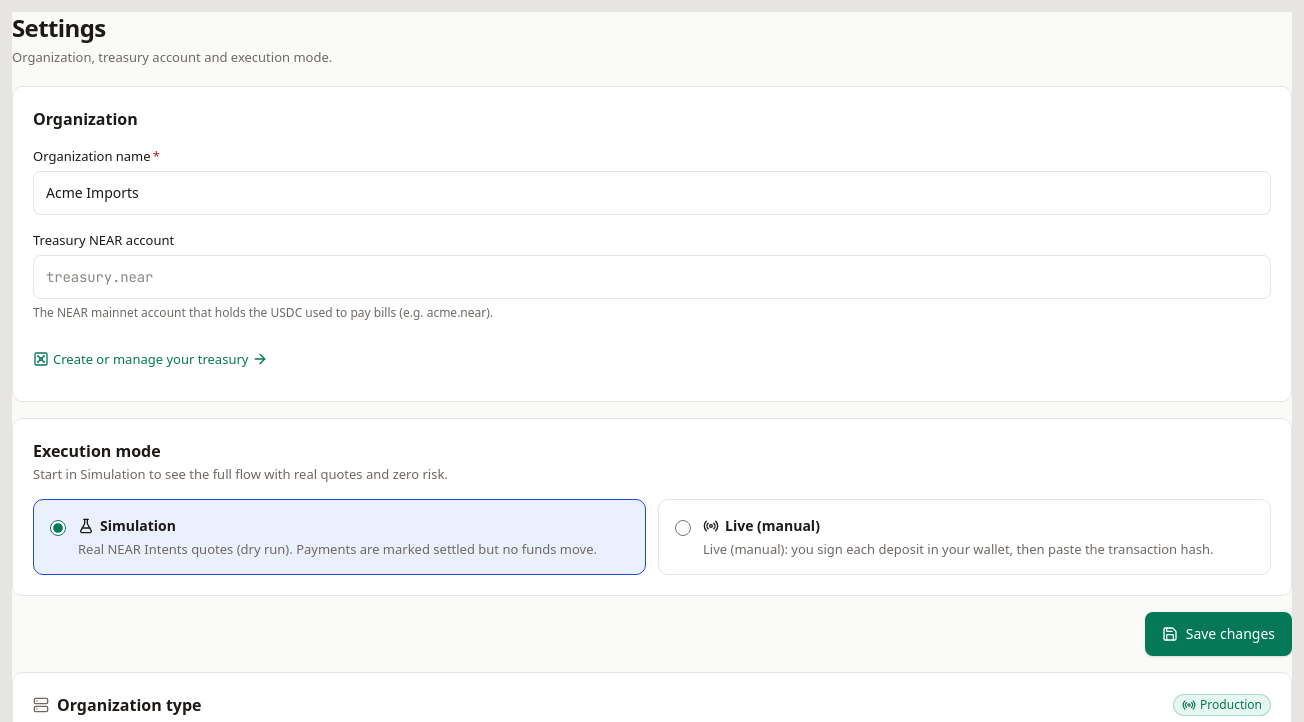
settings: treasury balance › reads the balance as soon as the owner saves, without waiting for the refresh job
The image size is (1304, 722).
In the field labelled "Treasury NEAR account": (652, 277) [33,255,1271,299], type "cruzespejose.near"
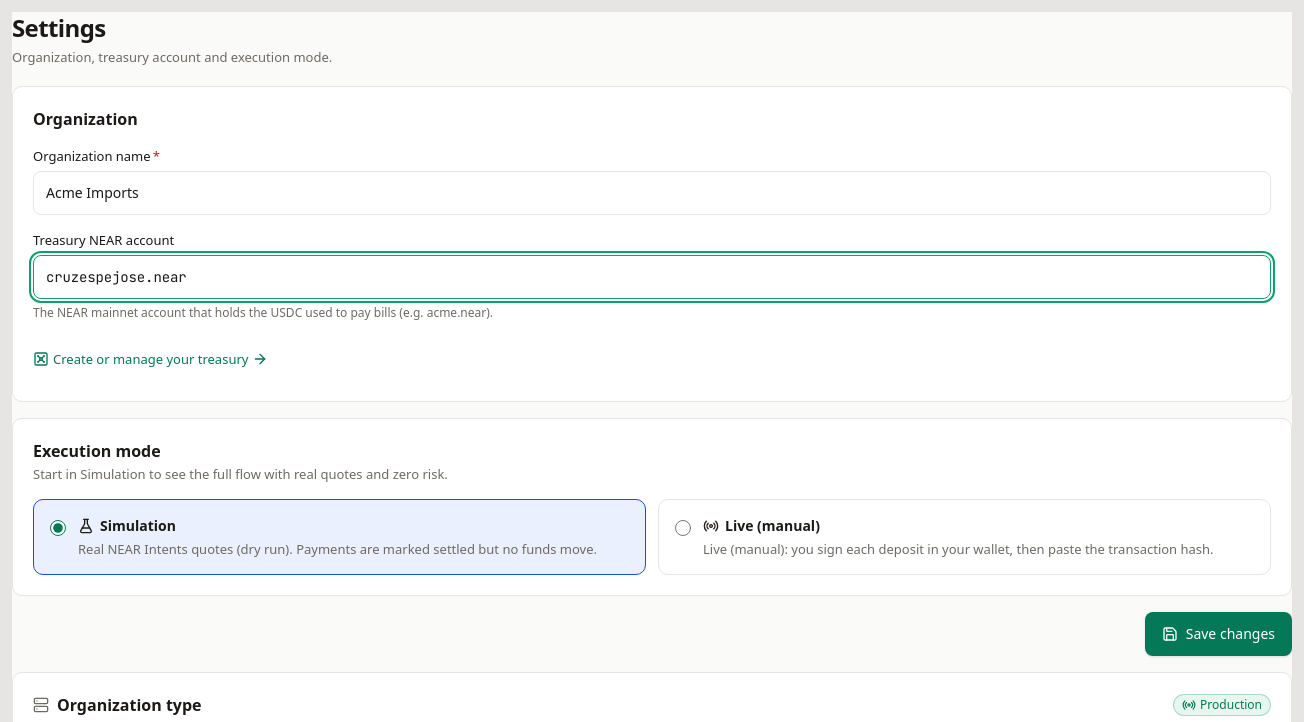
Click the button "Save changes": (1218, 634) [1145,612,1292,656]
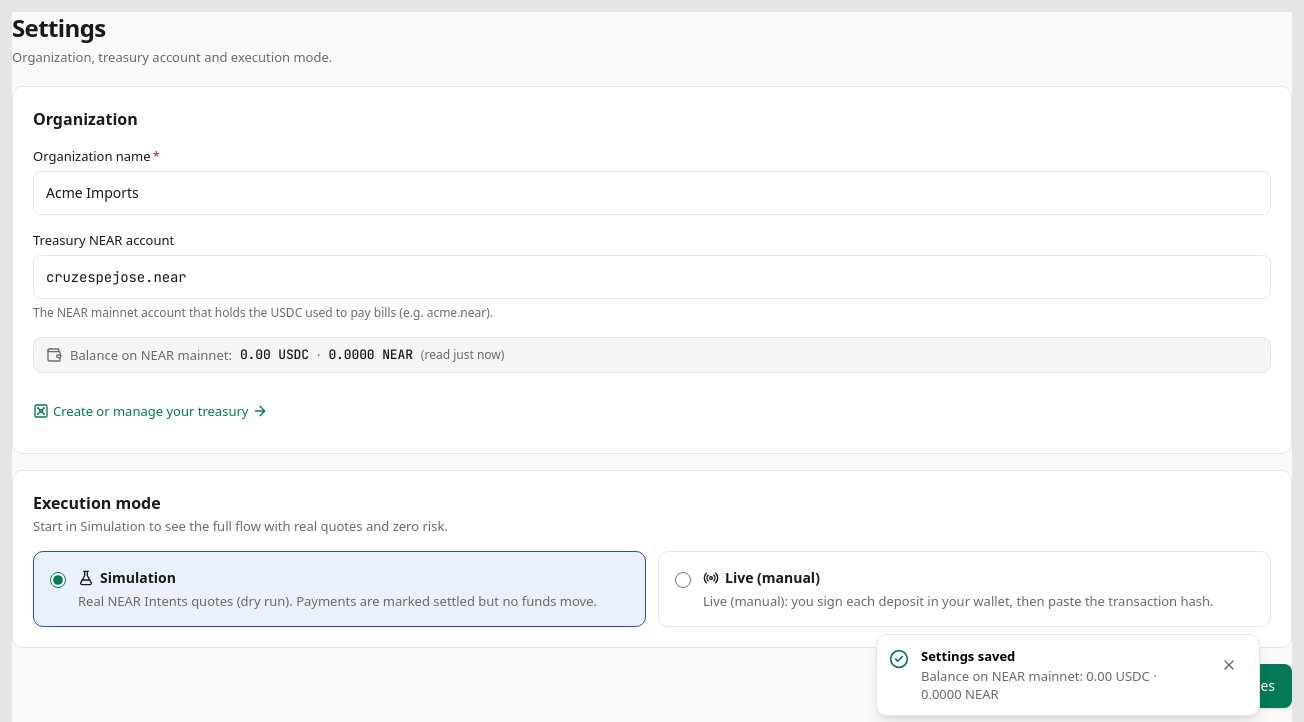
Check: the text "Balance on NEAR mainnet: 0.00 USDC · 0.0000 NEAR" is shown, box [921,667,1157,703]
Check: the element with test id "treasury-balance" shows "0.00 USDC", box [33,337,1271,373]
